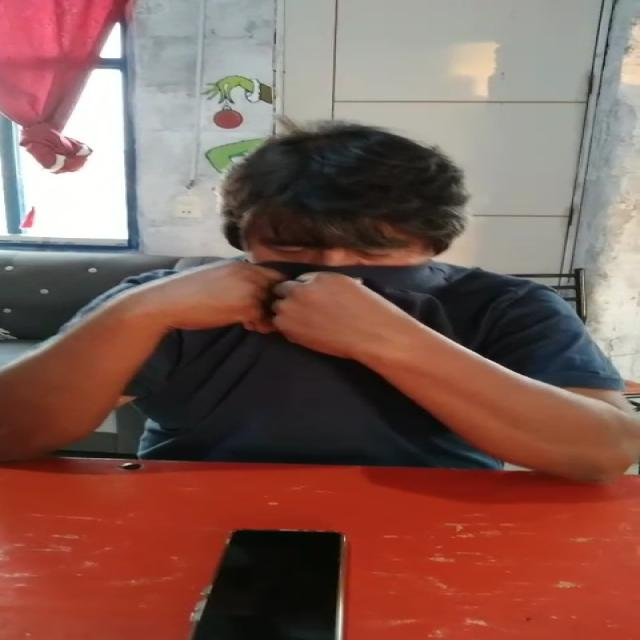8_ropa_rostro: (178, 252, 505, 354)
